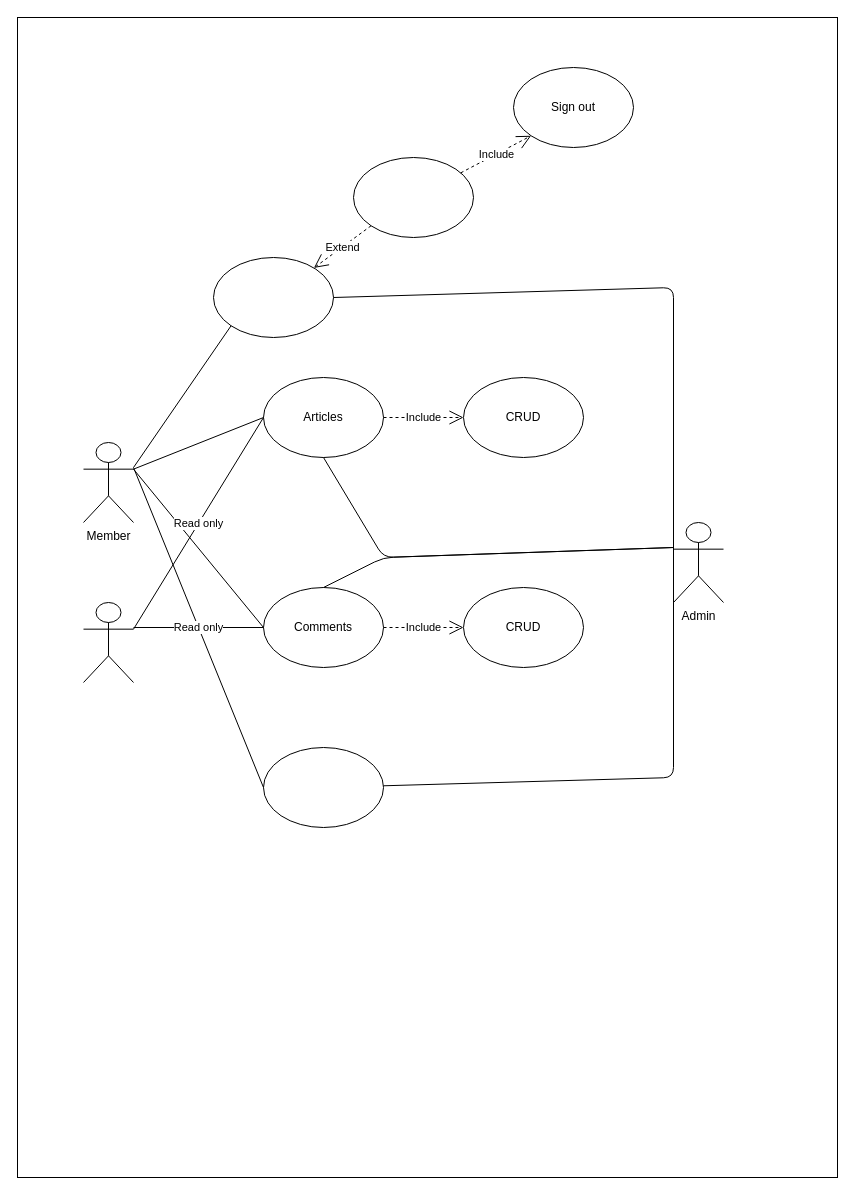
Some shapes in this 855 by 1195 pixel diagram are drawn without their labels. Here are the shapes that lost their labels. From the top down, the centre of each, then its label:
At point (413, 197): "Sign in".
At point (273, 297): "Sign up".
At point (108, 642): "Visitor".
At point (323, 787): "Likes".
